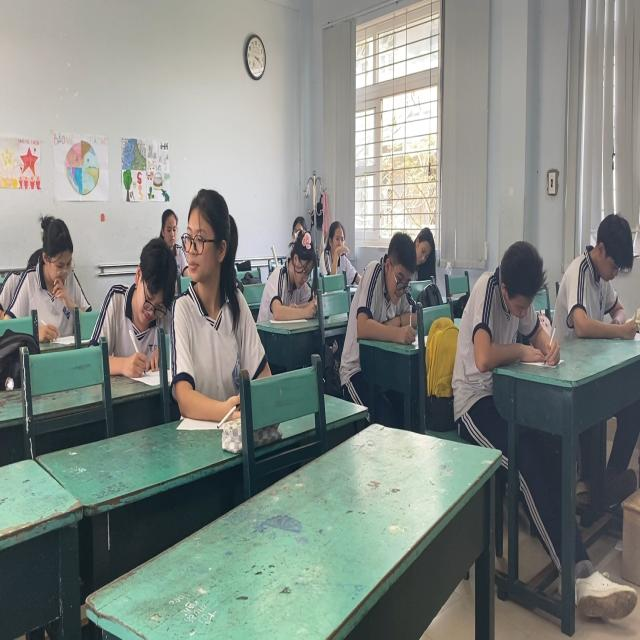cheating: (174, 186, 254, 389)
not_cheating: (458, 238, 560, 376), (562, 210, 640, 348), (100, 230, 176, 366), (20, 210, 86, 324), (360, 227, 412, 341), (261, 231, 321, 317), (323, 220, 356, 292), (409, 214, 436, 278), (158, 196, 180, 255)
